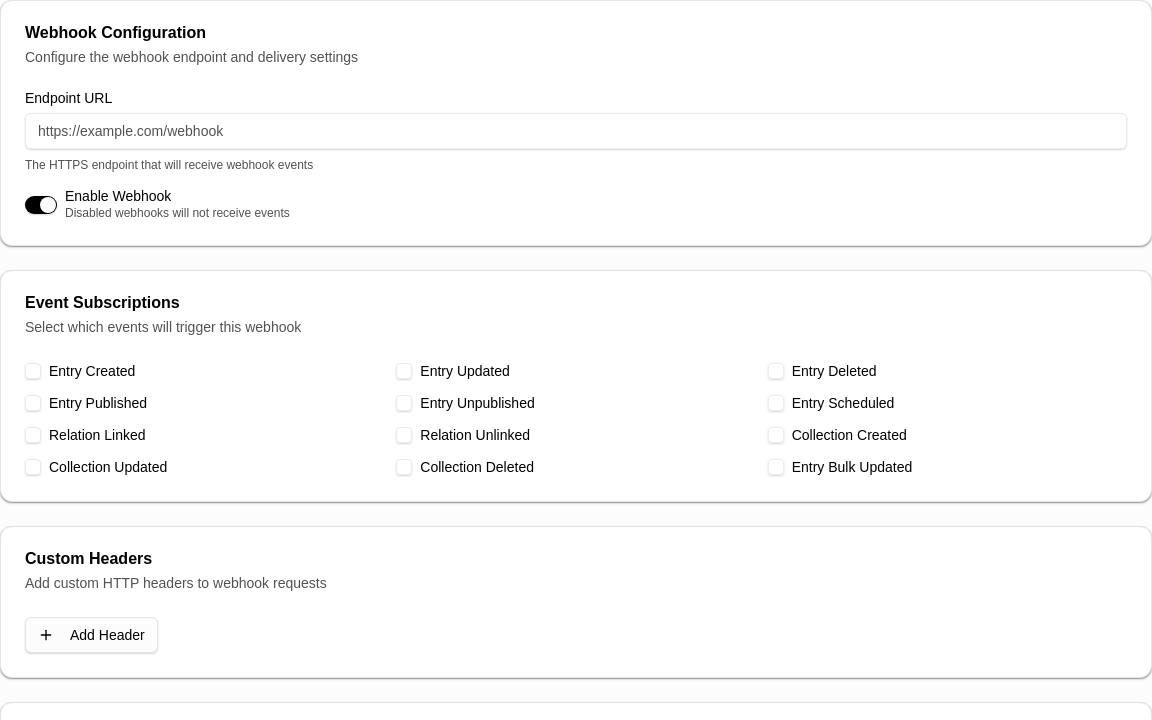
Test case: WebhookForm › allows adding custom headers
This screenshot has width=1152, height=720.
Click the button "Add Header". click: [91, 635]
box: left=25, top=617, right=158, bottom=653
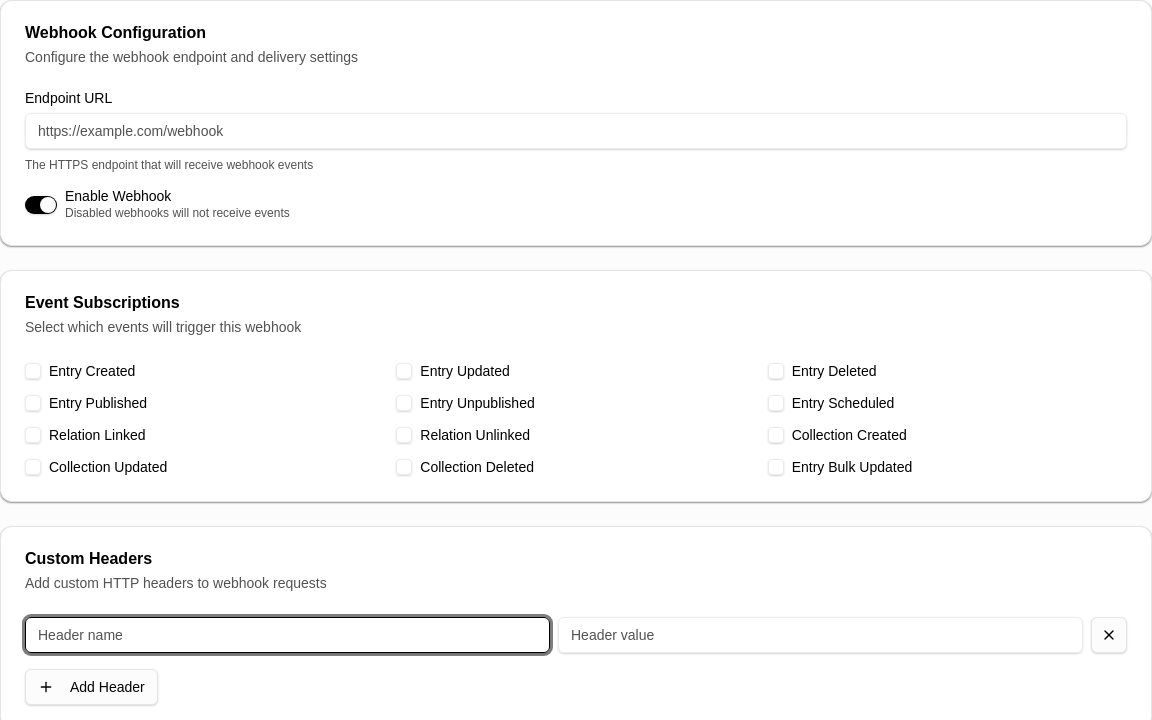
Now the field with placeholder "Header name" is shown, box left=25, top=617, right=550, bottom=653
Now the field with placeholder "Header value" is shown, box left=558, top=617, right=1083, bottom=653
